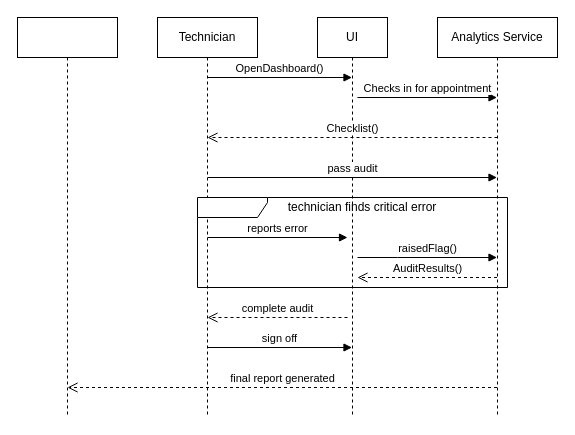
Image size: 575x435. Some labels were removed from this diagram. Each missing label, with the box of its shape:
alternative: (196, 196, 508, 288)
Homeowner: (16, 16, 118, 418)
